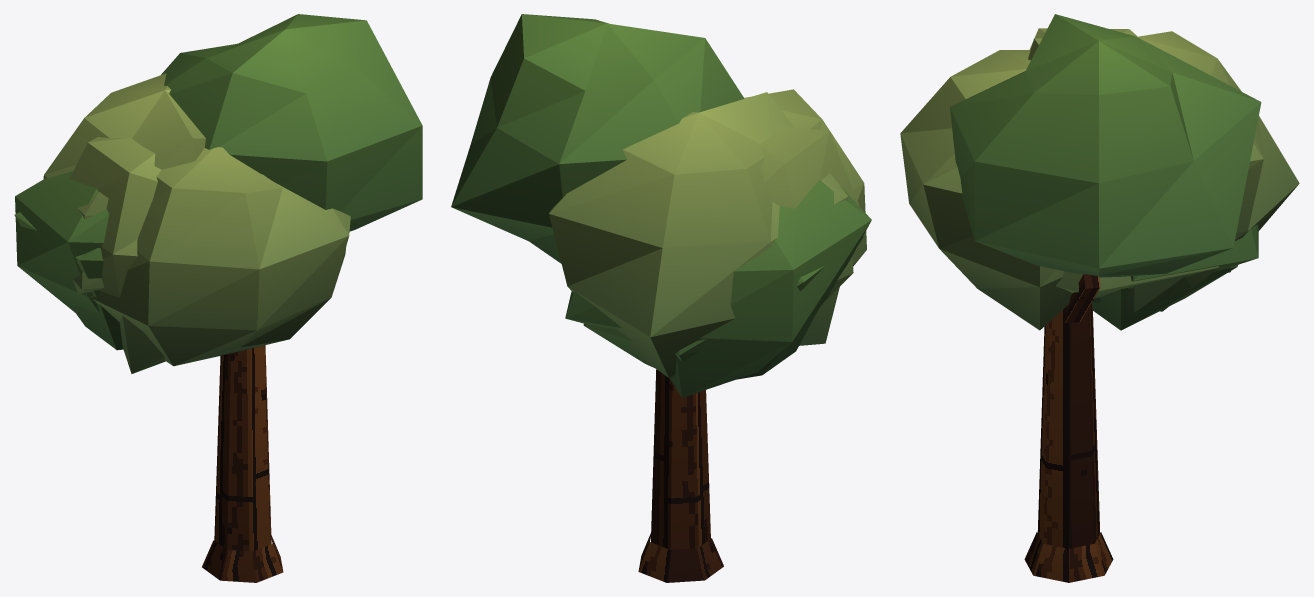
Rendered from apple_2_lowpoly.glb.
3 views of the same model, side by side, from view 1: azimuth 30°, elevation 25°; view 2: azimuth 150°, elevation 25°; view 3: azimuth 270°, elevation 25° (orthographic). The views are drawn at different scales.
Parts seen in each view (by area): view 1: apple_2_lowpoly; view 2: apple_2_lowpoly; view 3: apple_2_lowpoly.
Boxes of the visible parts, bbox=[...] form: apple_2_lowpoly: bbox=[14, 14, 422, 582]; apple_2_lowpoly: bbox=[451, 14, 871, 582]; apple_2_lowpoly: bbox=[900, 14, 1299, 582].
Size of the model in its own units: 3.58 by 4.81 by 3.15.
2 materials, 1 textured.
